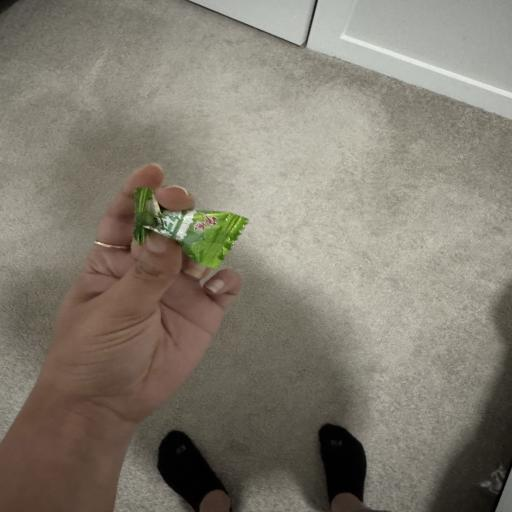chocolate: (134, 188, 248, 268)
